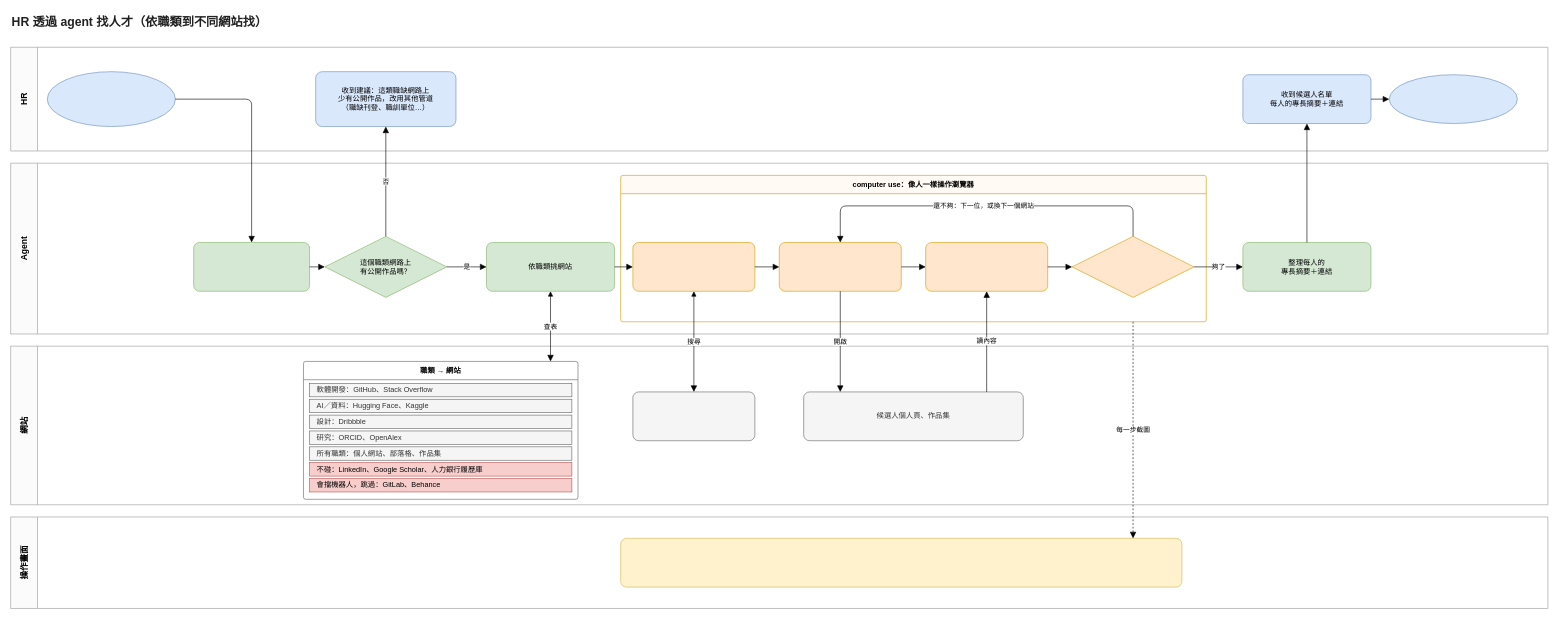
Image size: 1559x619. Some labels were removed from this diagram. Here are the shapes that lost their labels. From the top down, the centre of each, then its label:
the point at 111,99: 輸入需求 職缺、技能、地點 （例：軟體工程師、設計師）
the point at 1453,99: 點連結查看 個人頁、作品
the point at 251,266: 理解需求，轉成搜尋條件 技能標籤、工具、地點
the point at 693,266: 開啟網站並搜尋 用標籤、技能、地點篩選
the point at 840,266: 點進候選人個人頁
the point at 986,266: 讀取專業 作品、技能標籤、經歷、活躍度
the point at 1132,266: 人數夠了？
the point at 693,416: 搜尋結果頁
the point at 901,562: 即時操作畫面：每一步截圖推給 HR 看 開網頁 → 輸入搜尋 → 點擊 → 讀內容
